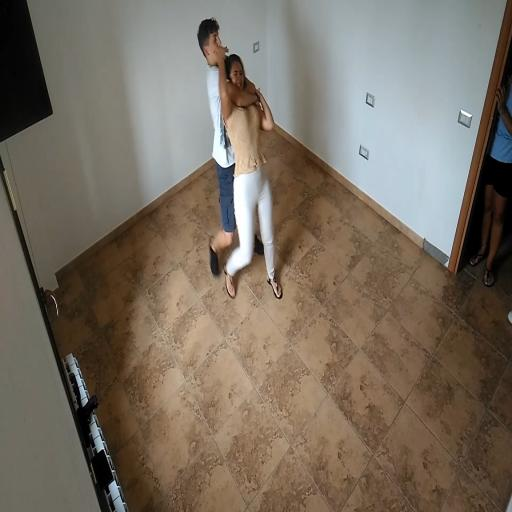violencia: (186, 12, 292, 306)
